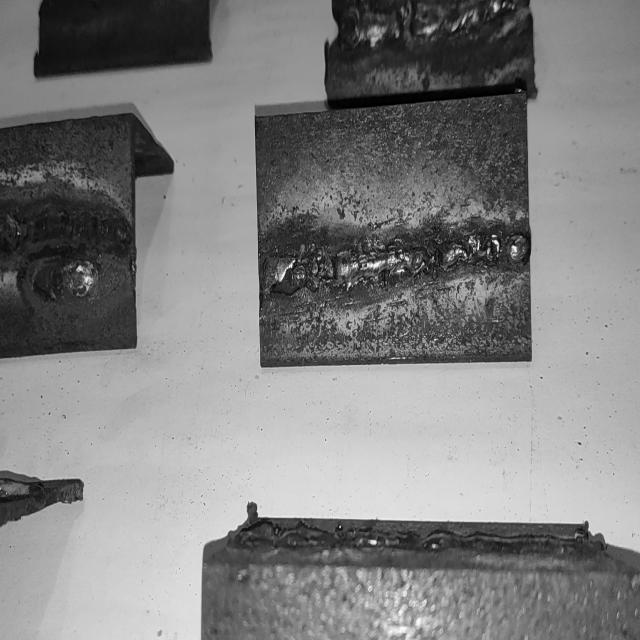Bad Weld: (266, 224, 526, 294)
Defect: (0, 198, 127, 297), (410, 210, 517, 290), (309, 212, 344, 306)
